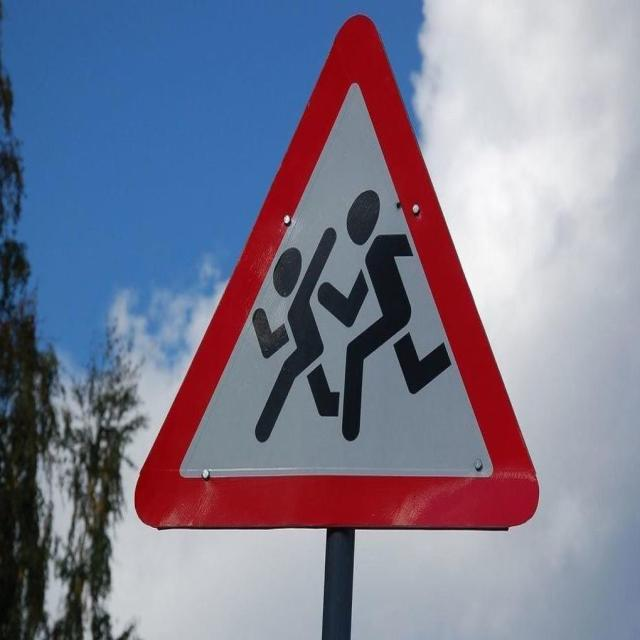Traffic sign: (131, 6, 537, 556)
